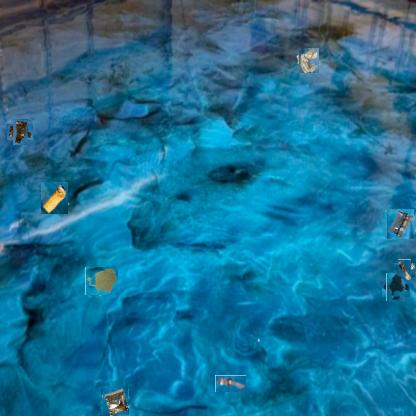dirty: (385, 209, 415, 239), (39, 184, 69, 214), (101, 388, 129, 416), (298, 48, 320, 72), (215, 375, 246, 392), (10, 122, 30, 142), (396, 261, 413, 279)
liquid: (87, 266, 117, 297), (384, 276, 408, 299)
